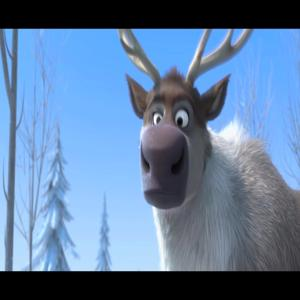sven: (112, 32, 278, 250)
